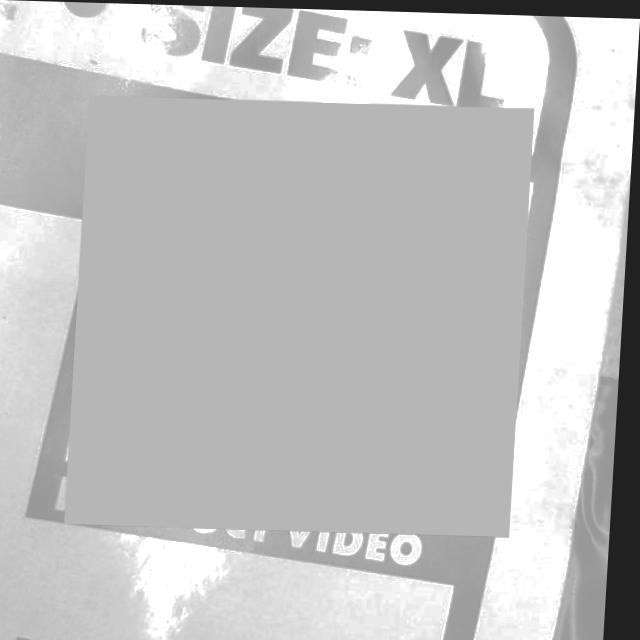qr_code: (71, 95, 536, 534)
